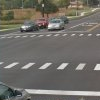crosswalk: (0, 61, 99, 70), (1, 33, 100, 38)
